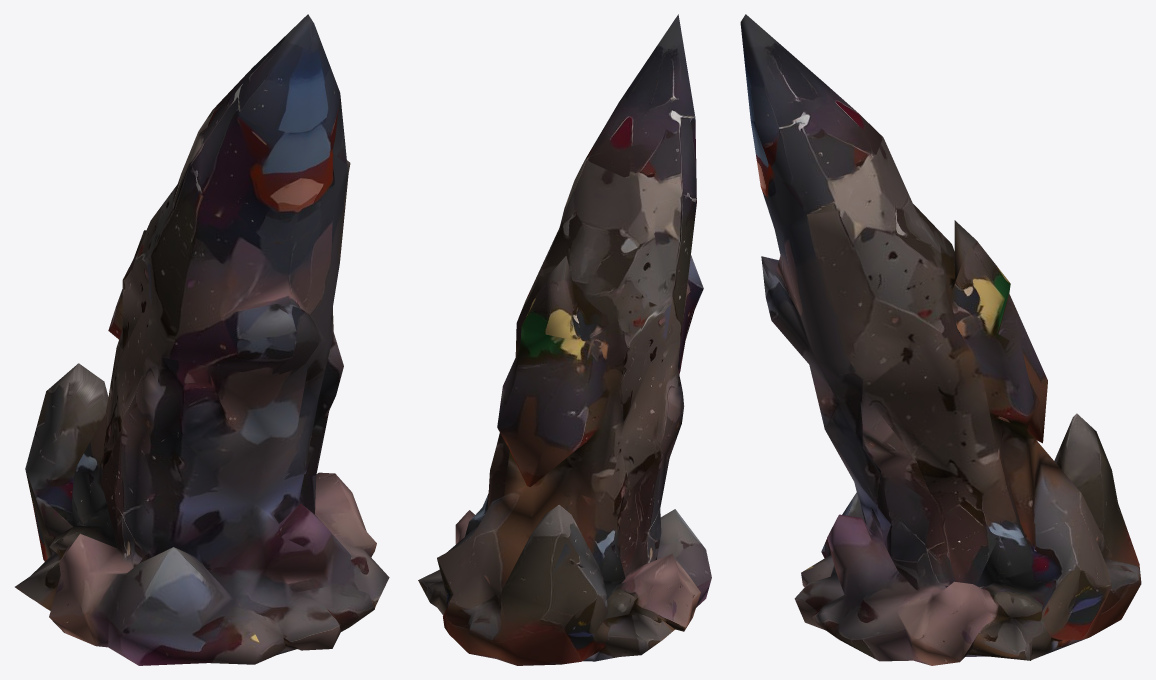
File: lot-spire.glb
3 views of the same model, side by side, from view 1: azimuth 30°, elevation 25°; view 2: azimuth 150°, elevation 25°; view 3: azimuth 270°, elevation 25° (orthographic). The views are drawn at different scales.
Parts seen in each view (by area): view 1: tripo_node_f63bfcf5-2527-421c-9f05-20323ae861c6; view 2: tripo_node_f63bfcf5-2527-421c-9f05-20323ae861c6; view 3: tripo_node_f63bfcf5-2527-421c-9f05-20323ae861c6.
Boxes of the visible parts, <box> form: tripo_node_f63bfcf5-2527-421c-9f05-20323ae861c6: <box>15,14,389,665</box>; tripo_node_f63bfcf5-2527-421c-9f05-20323ae861c6: <box>418,14,711,665</box>; tripo_node_f63bfcf5-2527-421c-9f05-20323ae861c6: <box>740,14,1141,665</box>.
Bounding box in the file's own units: 0.4821 × 0.9999 × 0.6165.
1 material, 1 textured.
